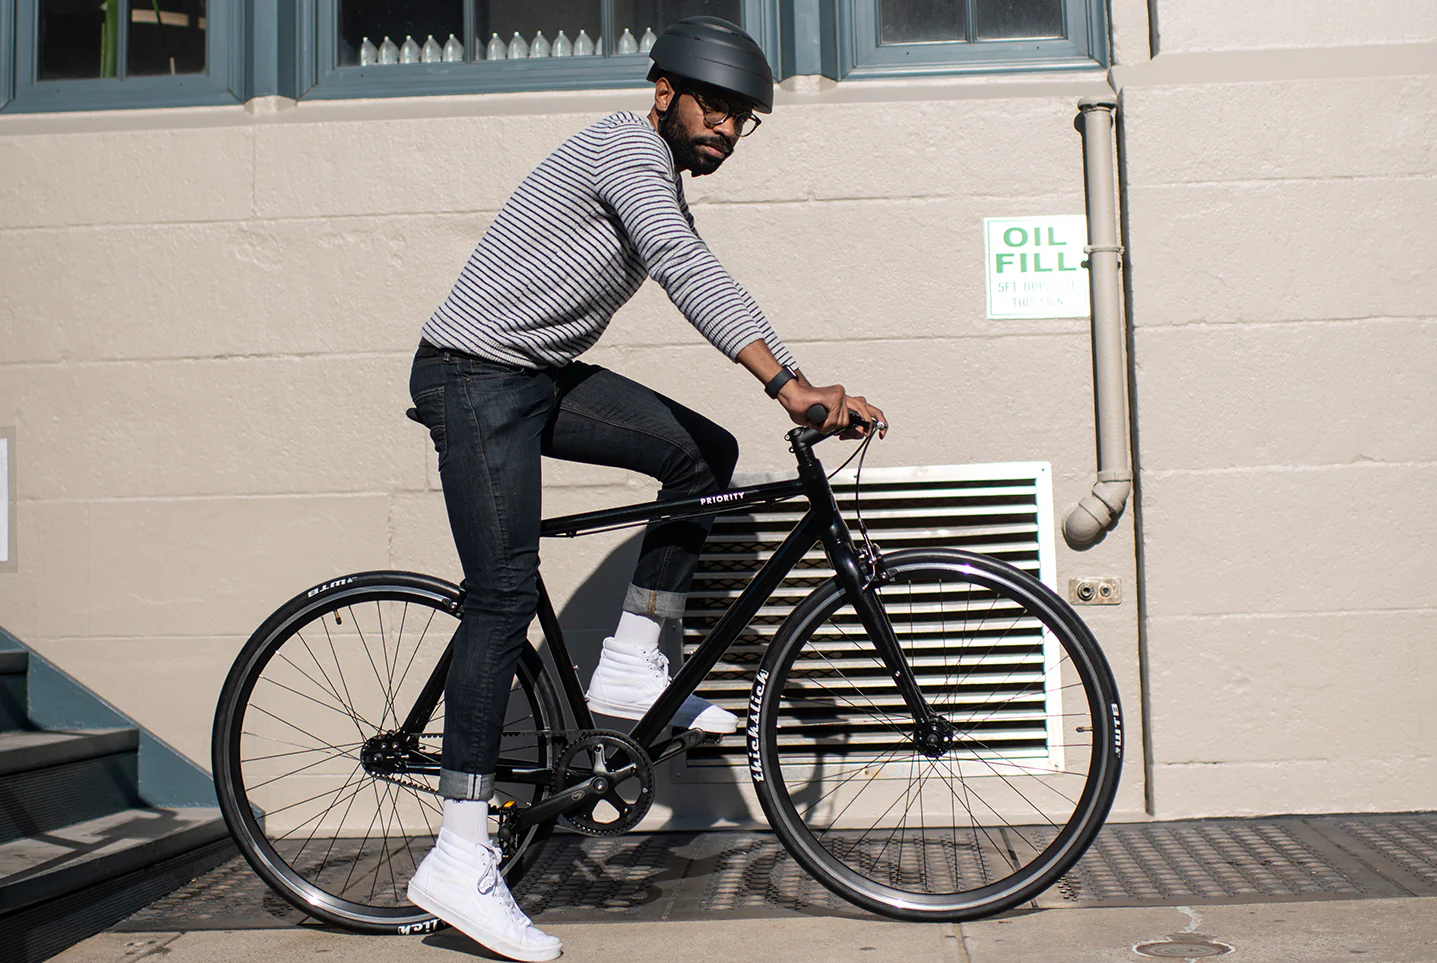bike: (200, 390, 1132, 940)
person: (362, 10, 892, 963)
